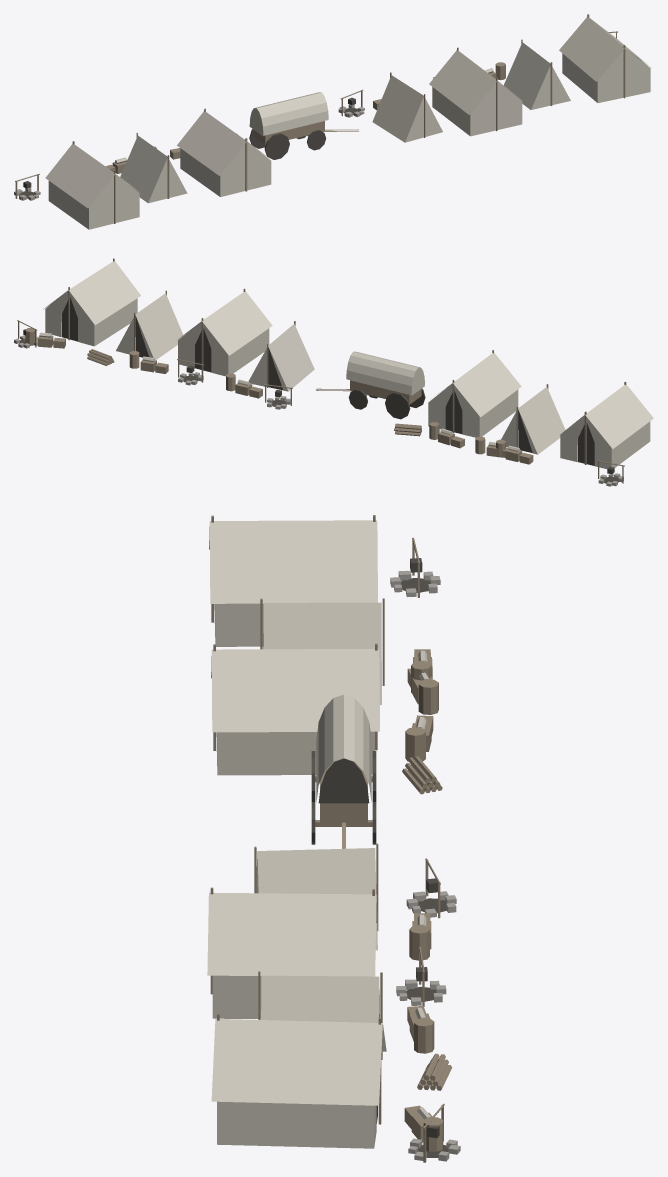
File: landing_camp_west__camp_1835.glb
3 views of the same model, one above another, from view 1: azimuth 30°, elevation 25°; view 2: azimuth 150°, elevation 25°; view 3: azimuth 270°, elevation 25° (orthographic). The views are drawn at different scales.
Visible parts, largest first — view 1: landing_camp_west__camp_1835; view 2: landing_camp_west__camp_1835; view 3: landing_camp_west__camp_1835.
Boxes of the visible parts, x1,y1,x2,y2 form: landing_camp_west__camp_1835: [14, 14, 650, 229]; landing_camp_west__camp_1835: [14, 258, 653, 486]; landing_camp_west__camp_1835: [207, 515, 460, 1162].
Size of the model in its own units: 32.46 by 2.71 by 5.88.
